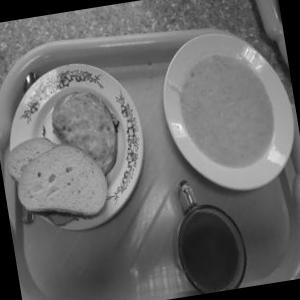bread: (0, 125, 112, 236)
cheese_sandwich: (38, 74, 140, 183)
porridge: (162, 34, 296, 198)
